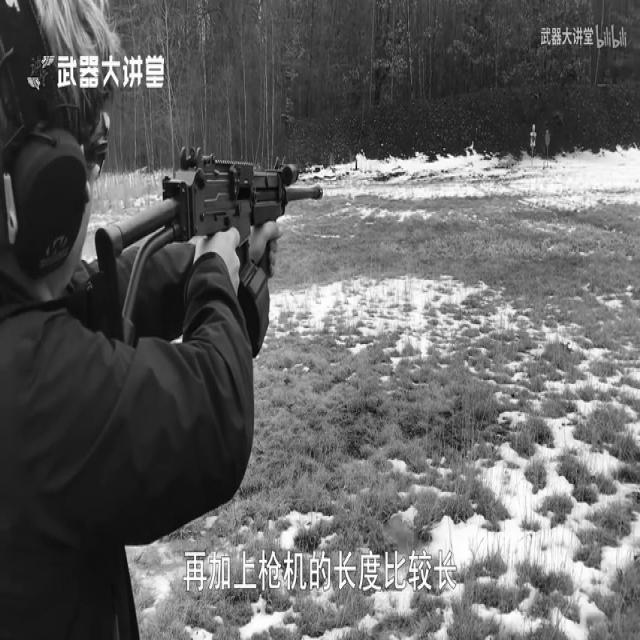Sniper: (60, 70, 372, 409)
